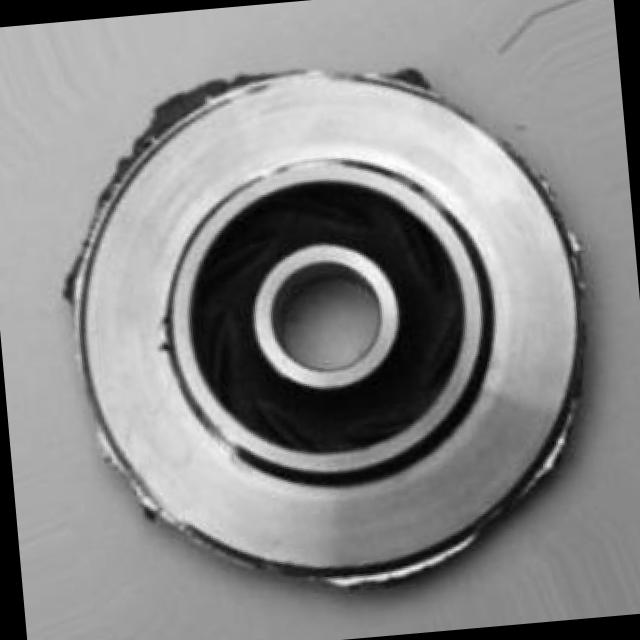Defect: (151, 78, 210, 130)
